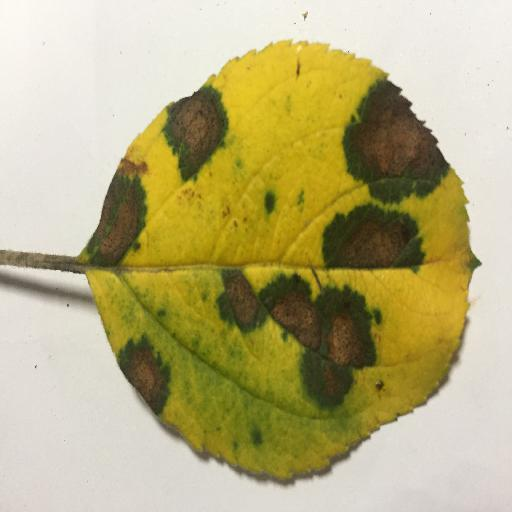Brown_Spot: (265, 280, 380, 408), (344, 74, 453, 196), (322, 203, 422, 269), (168, 106, 232, 174), (86, 193, 142, 262), (118, 341, 171, 411), (221, 270, 256, 323)
